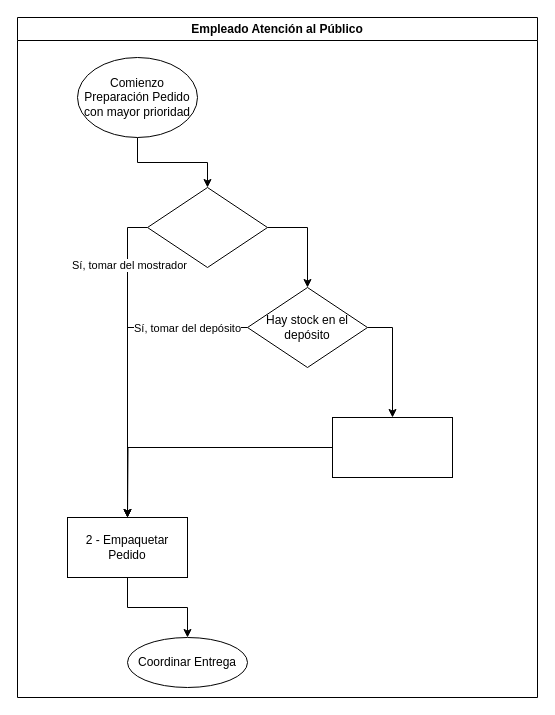
Image size: 555x715. Some labels were removed from this diagram. Each missing label, with the centre of its shape:
1 - Esperar Fabricación: the point at 392,447
Hay stock en el mostrador: the point at 207,227
